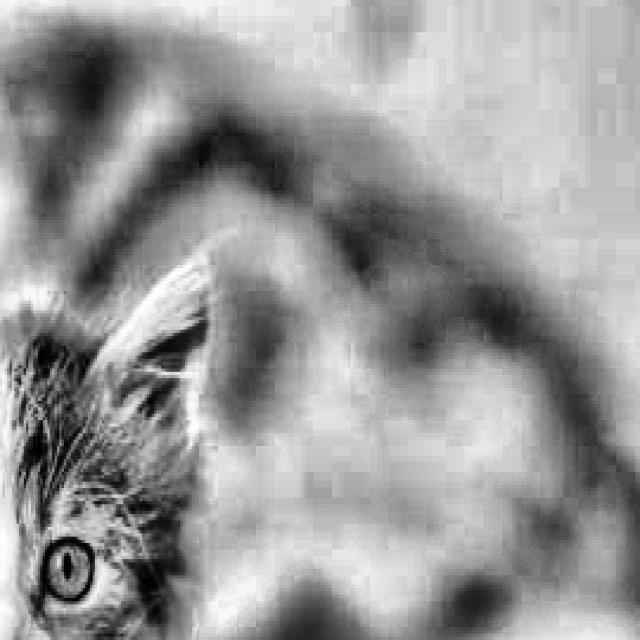cat: (0, 223, 389, 640)
